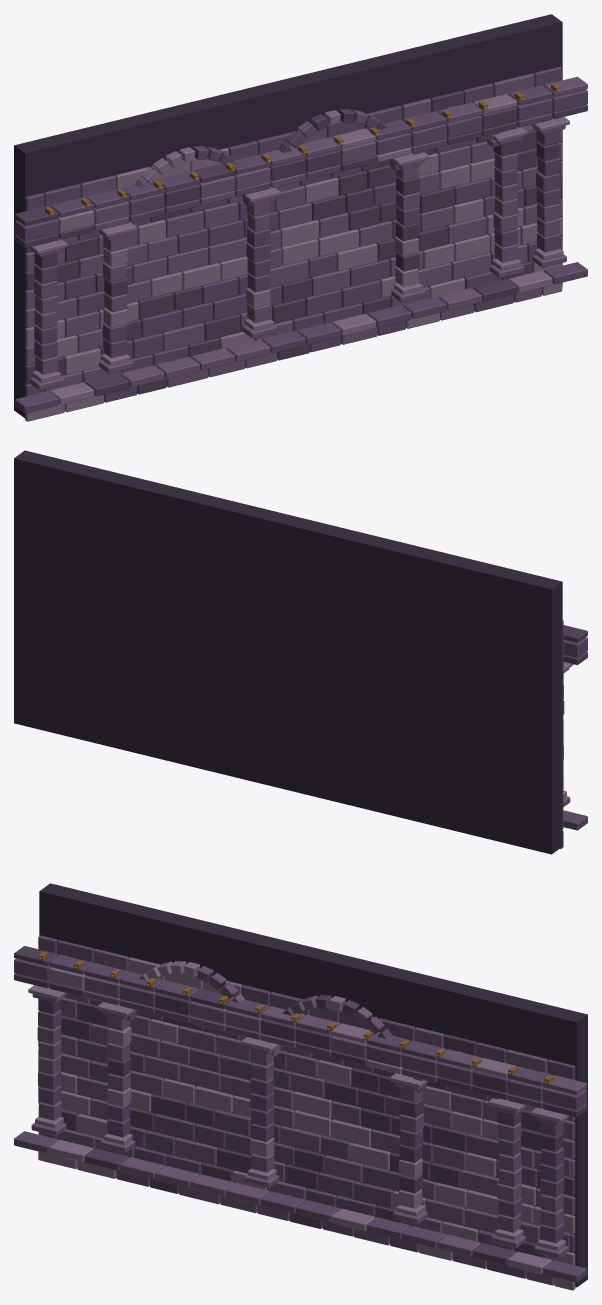
Rendered from SM_RGB_StoneGallery.fbx.
3 renders of one model, top to bottom at view 1: azimuth 30°, elevation 25°; view 2: azimuth 150°, elevation 25°; view 3: azimuth 330°, elevation 25°, orthographic.
Parts seen in each view (by area): view 1: SM_RGB_StoneGallery; view 2: SM_RGB_StoneGallery; view 3: SM_RGB_StoneGallery.
Boxes of the visible parts, x1,y1,x2,y2 form: SM_RGB_StoneGallery: (14,14,587,421); SM_RGB_StoneGallery: (14,450,587,854); SM_RGB_StoneGallery: (14,883,587,1290).
Bounding box in the file's own units: 1949 × 149 × 885.
